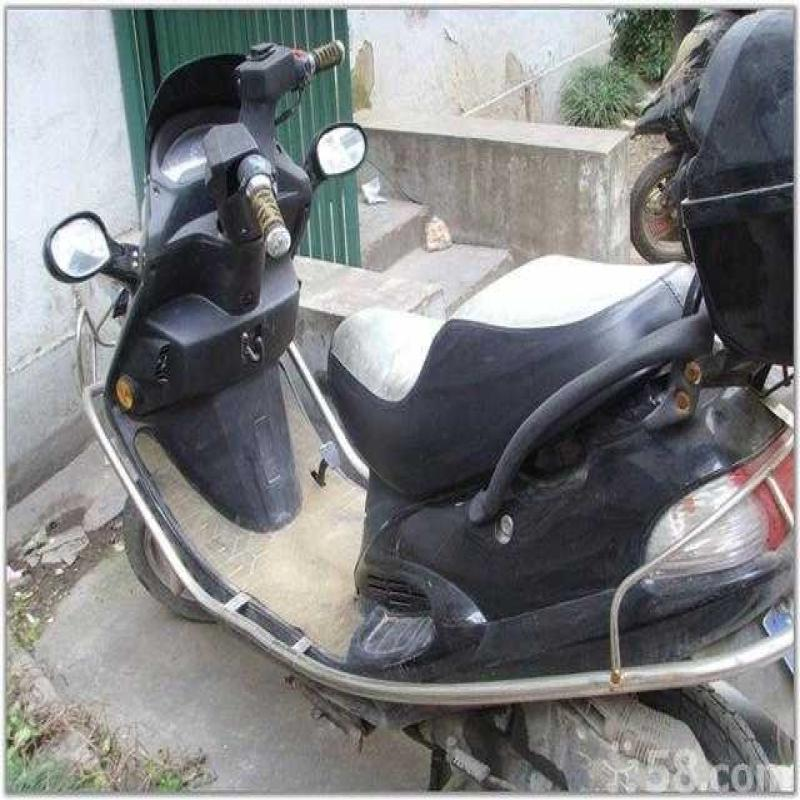bike: (93, 27, 800, 800)
